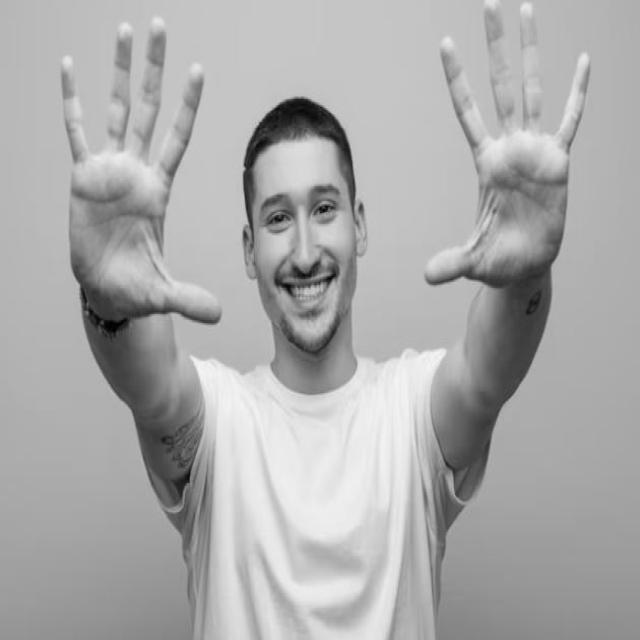stop: (56, 10, 226, 335), (419, 0, 594, 299)
